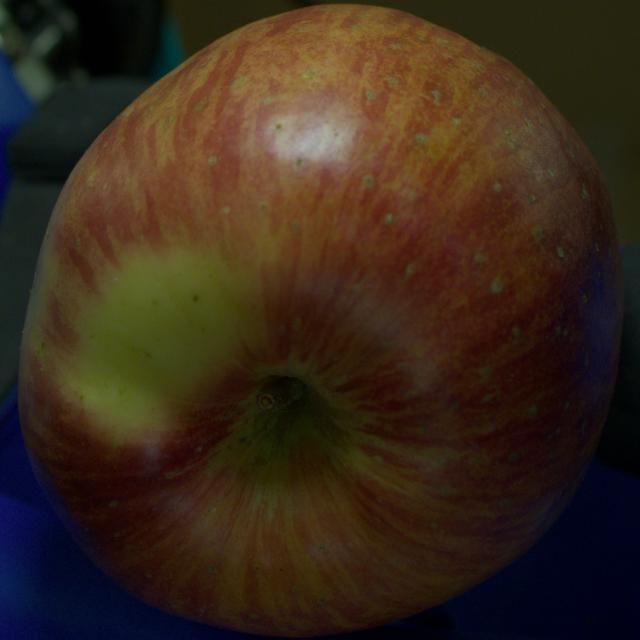apple: (19, 5, 623, 636)
